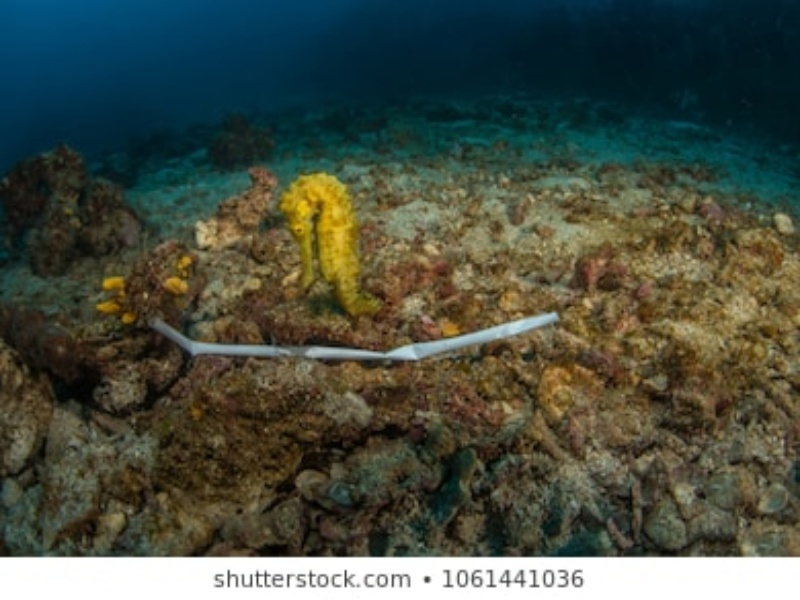straw: (144, 309, 578, 367)
